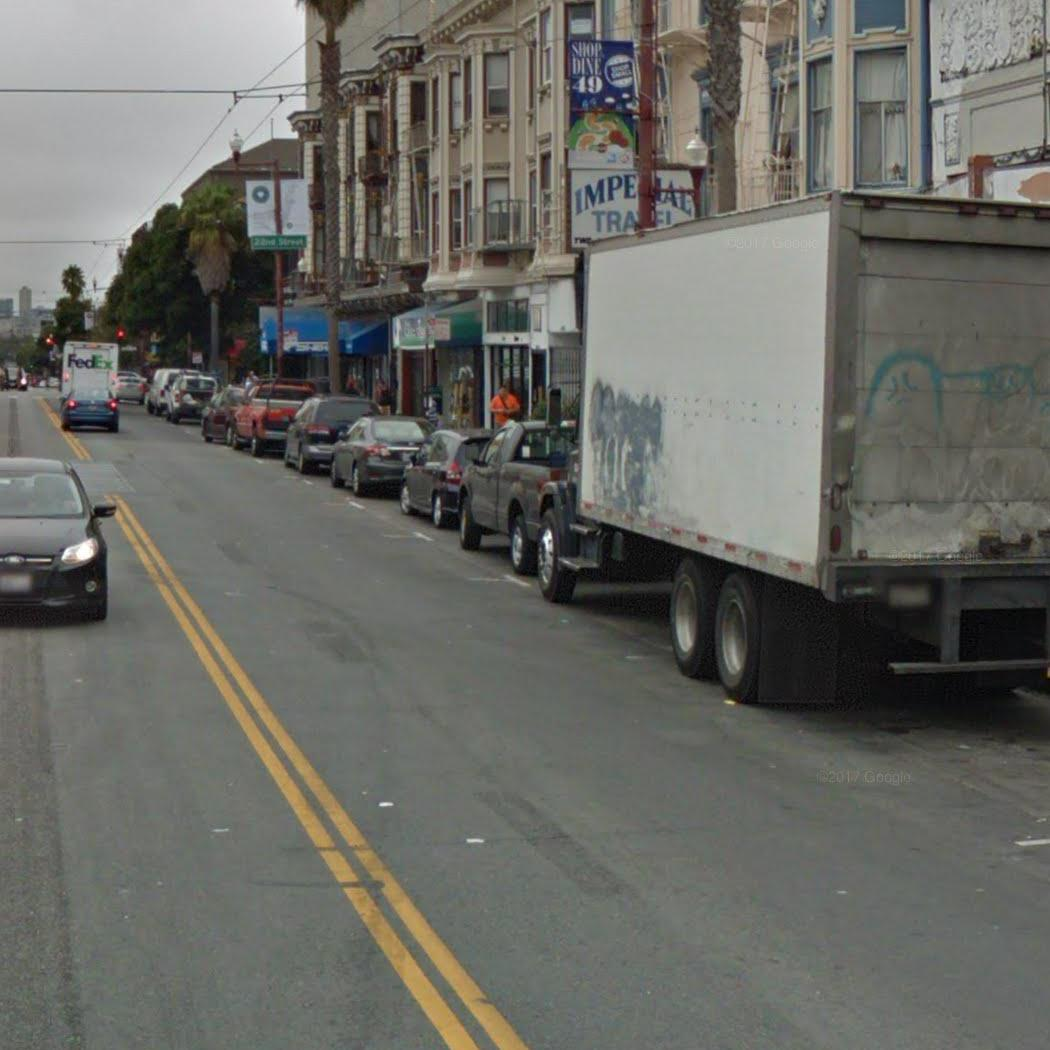No Parking: (426, 316, 451, 342)
